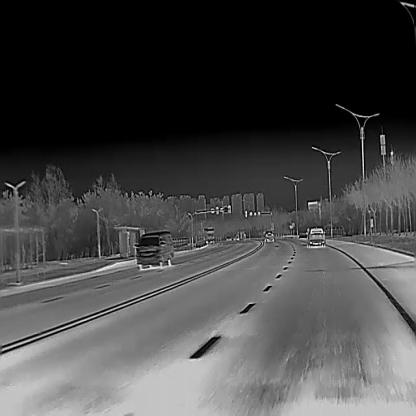bus: (203, 227, 214, 243)
car: (133, 230, 174, 269), (304, 226, 326, 247), (264, 229, 274, 241), (226, 235, 231, 240)
